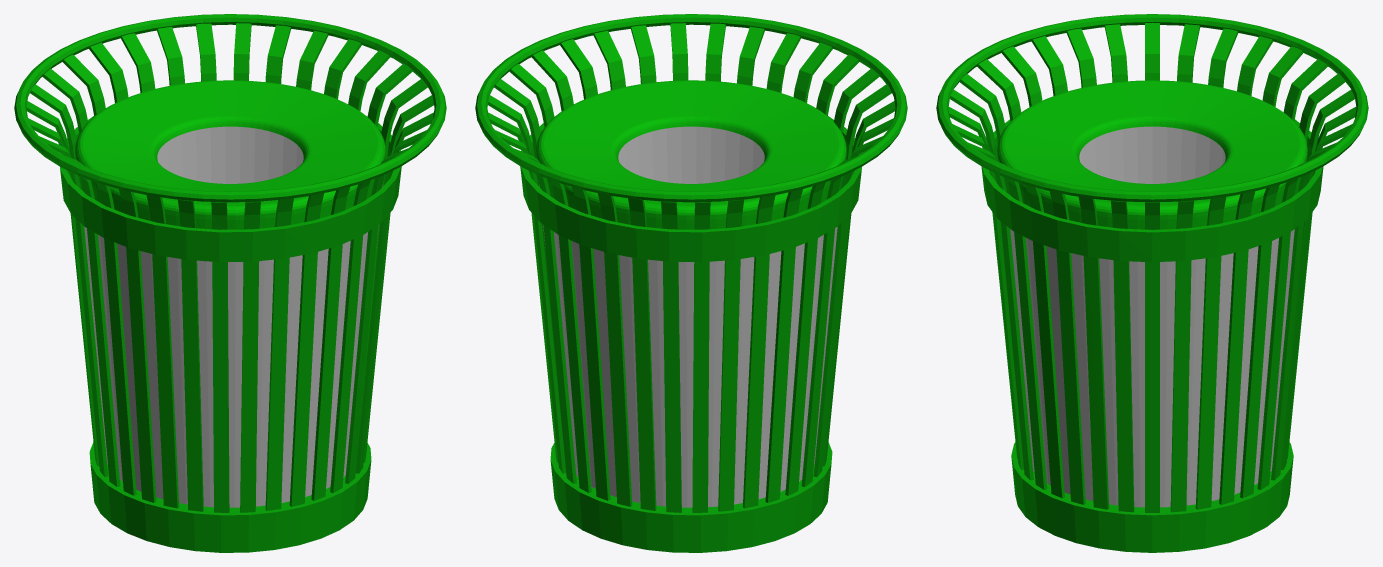
Rendered from sh-kl-park-trashcan.glb.
3 views of the same model, side by side, from view 1: azimuth 30°, elevation 25°; view 2: azimuth 150°, elevation 25°; view 3: azimuth 270°, elevation 25° (orthographic).
Parts seen in each view (by area): view 1: trash_can_frame_Trash_can_frame_Green_paint, Trash_can_Trash_can_Aluminum, Trash_can_Trash_can_Green_plastic; view 2: trash_can_frame_Trash_can_frame_Green_paint, Trash_can_Trash_can_Aluminum, Trash_can_Trash_can_Green_plastic; view 3: trash_can_frame_Trash_can_frame_Green_paint, Trash_can_Trash_can_Aluminum, Trash_can_Trash_can_Green_plastic.
Boxes of the visible parts, box(x1,y1,x2,y2) form: trash_can_frame_Trash_can_frame_Green_paint: box(14, 14, 446, 552); Trash_can_Trash_can_Aluminum: box(84, 126, 382, 507); Trash_can_Trash_can_Green_plastic: box(75, 80, 385, 229); trash_can_frame_Trash_can_frame_Green_paint: box(475, 14, 907, 552); Trash_can_Trash_can_Aluminum: box(539, 126, 837, 507); Trash_can_Trash_can_Green_plastic: box(536, 80, 846, 229); trash_can_frame_Trash_can_frame_Green_paint: box(936, 14, 1368, 552); Trash_can_Trash_can_Aluminum: box(1010, 126, 1294, 507); Trash_can_Trash_can_Green_plastic: box(997, 80, 1307, 229).
Size of the model in its own units: 1 by 1 by 1.
